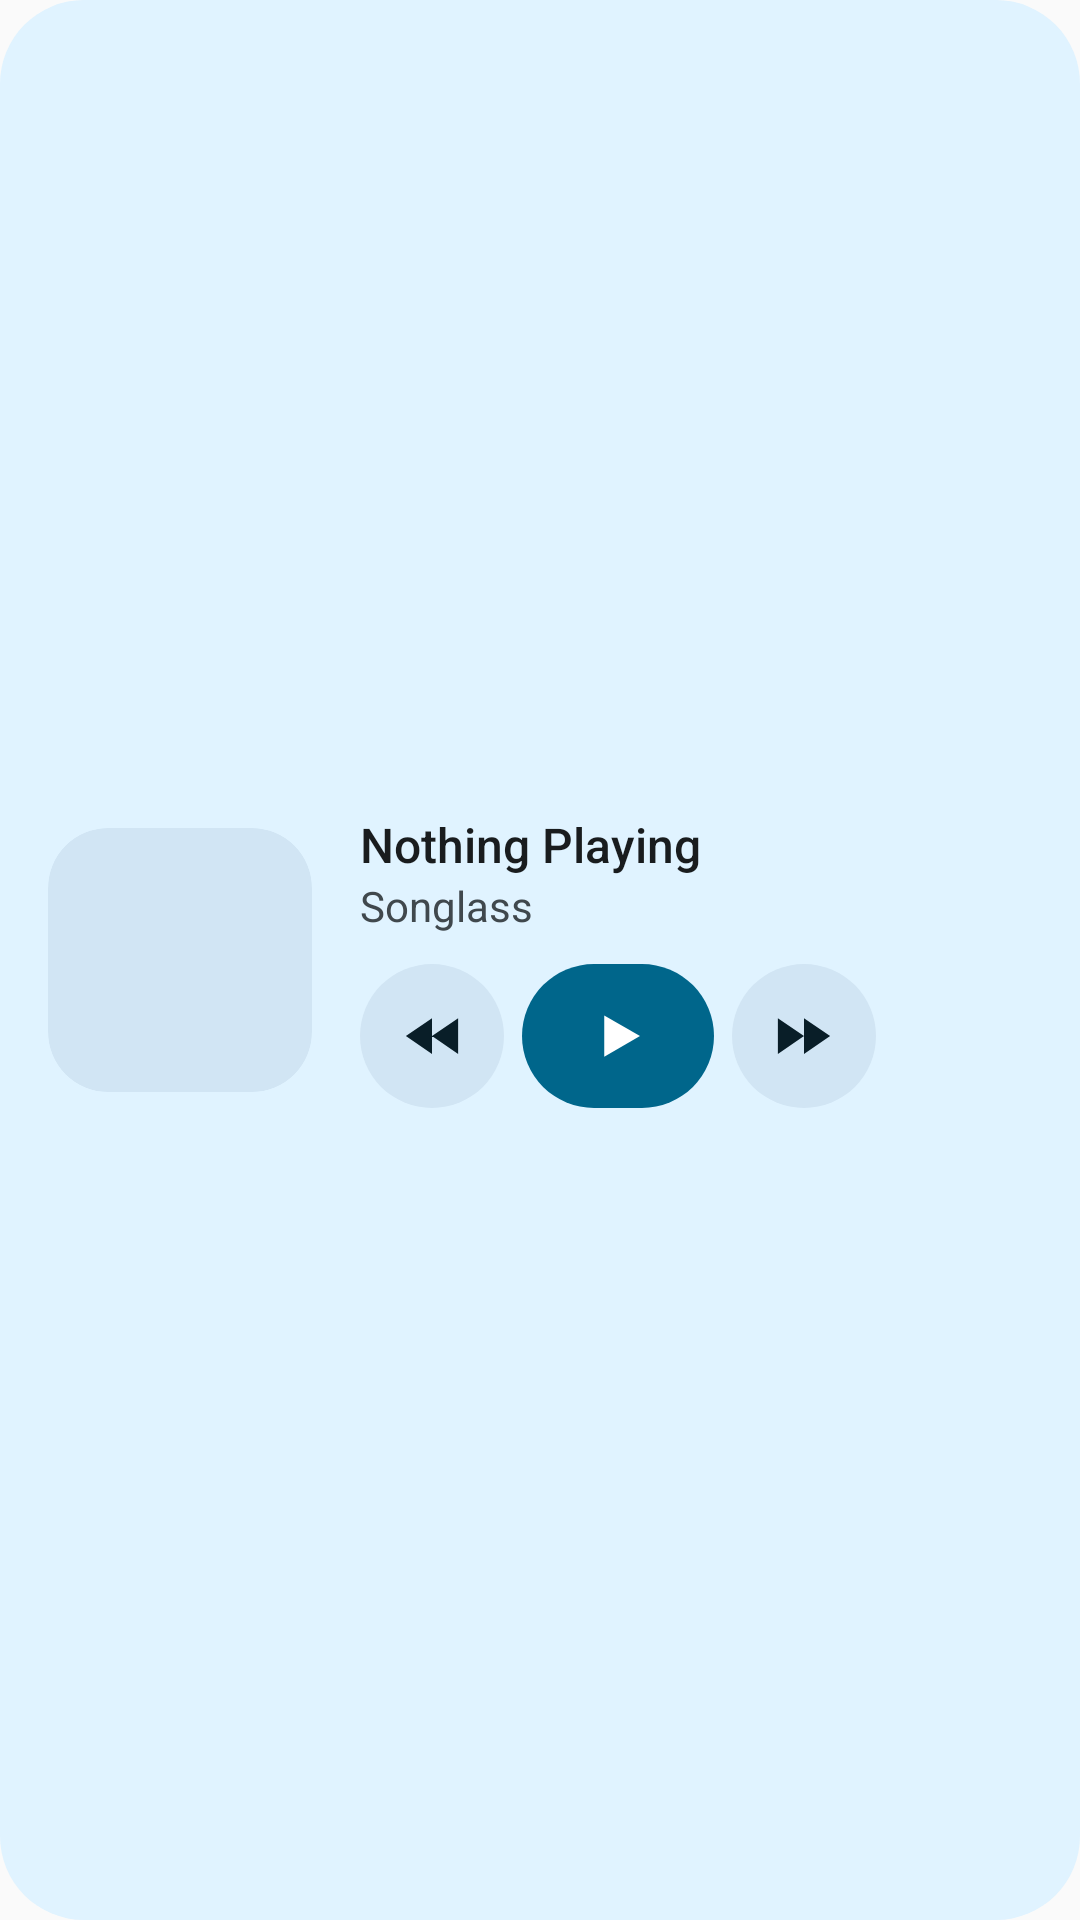

Where icons sit on this 1080*1920 app screen, as [left=x1, top=y1, right=x2, bottom=y2]:
Next: [left=777, top=1018, right=830, bottom=1054]
Previous: [left=406, top=1018, right=459, bottom=1054]
